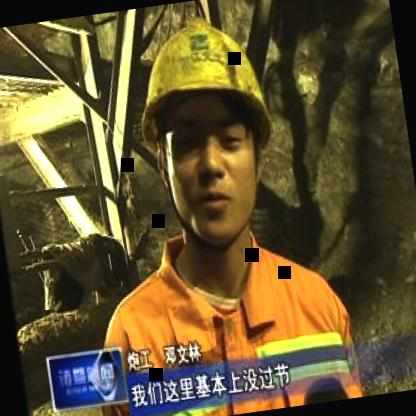helmet: (108, 0, 302, 275)
